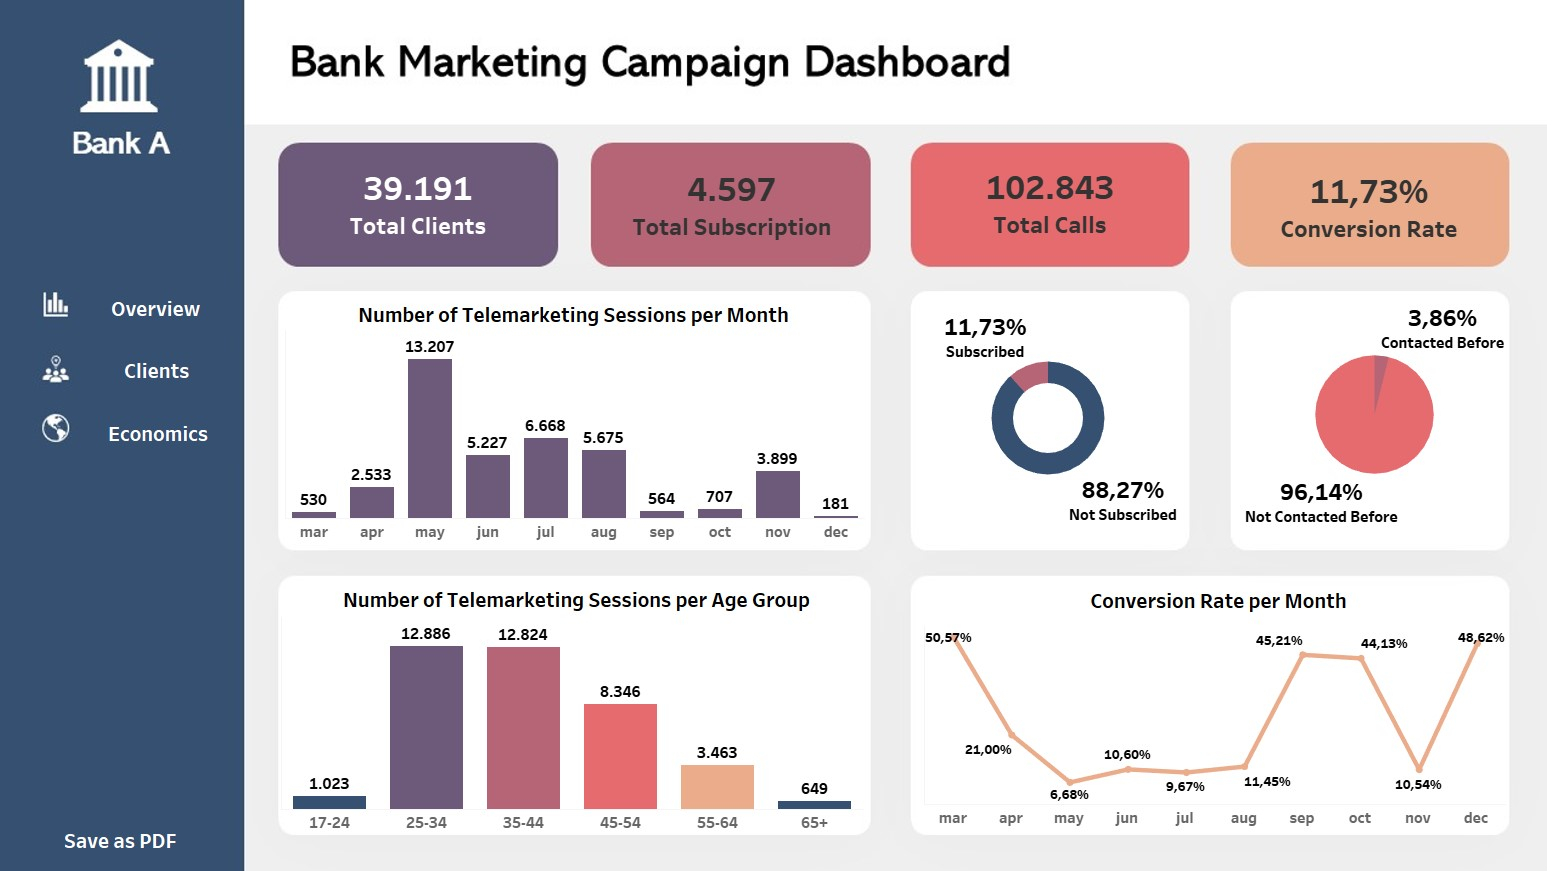

The dashboard page shown, as its layout file describes it:
{"tool":"tableau","page":{"name":"Overview","canvas":[1600,900],"ordinal":2},"visuals":[{"type":"image","param":"Image/template finpro.jpg","box":[8,8,1584,884]},{"type":"worksheet","title":"Subscription","mark":"Automatic","box":[621,163,273,109]},{"type":"worksheet","title":"Total Calls","mark":"Automatic","box":[940,166,271,99]},{"type":"worksheet","title":"Conversion Rate","mark":"Automatic","box":[1257,167,276,105]},{"type":"worksheet","title":"Total Clients","mark":"Automatic","box":[306,169,276,96]},{"type":"dashboard-object","box":[97,296,171,52]},{"type":"text","box":[305,309,589,38]},{"type":"worksheet","title":"Pie Contacted Before","mark":"Pie","box":[1270,310,261,237]},{"type":"worksheet","title":"Pie Telemarketing","mark":"Pie","box":[944,319,260,226]},{"type":"worksheet","title":"Telemarketing Per Month","mark":"Bar","rows":["bank_marketing_clean.csv_5FB693D398A34FBC9FAFC06A0E16D365"],"cols":["month"],"box":[311,344,580,213]},{"type":"dashboard-object","box":[100,358,167,52]},{"type":"worksheet","title":"Blank Total","mark":"Pie","box":[982,362,184,140]},{"type":"dashboard-object","box":[99,417,164,52]},{"type":"dashboard-object","box":[100,421,168,52]},{"type":"text","box":[308,594,589,38]},{"type":"text","box":[950,595,589,38]},{"type":"worksheet","title":"Telemarketing Per Age","mark":"Bar","rows":["bank_marketing_clean.csv_5FB693D398A34FBC9FAFC06A0E16D365"],"cols":["age_bin"],"box":[307,631,582,217]},{"type":"worksheet","title":"Conv Rate Per Month","mark":"Line","rows":["Calculation_448671144308154369"],"cols":["month"],"box":[950,640,582,203]},{"type":"dashboard-object","box":[23,821,247,66]}]}

Visuals, with their boxes in screenshot pixels (x1, y1, x2, y2), scaled from the page's 1600x900 canvas onto the 1547x871 screenshot:
image: select_region(8, 8, 1539, 863)
"Subscription" worksheet: select_region(600, 158, 864, 263)
"Total Calls" worksheet: select_region(909, 161, 1171, 256)
"Conversion Rate" worksheet: select_region(1215, 162, 1482, 263)
"Total Clients" worksheet: select_region(296, 164, 563, 256)
dashboard-object: select_region(94, 286, 259, 337)
text: select_region(295, 299, 864, 336)
"Pie Contacted Before" worksheet (Pie marks): select_region(1228, 300, 1480, 529)
"Pie Telemarketing" worksheet (Pie marks): select_region(913, 309, 1164, 527)
"Telemarketing Per Month" worksheet (Bar marks): select_region(301, 333, 861, 539)
dashboard-object: select_region(97, 346, 258, 397)
"Blank Total" worksheet (Pie marks): select_region(949, 350, 1127, 486)
dashboard-object: select_region(96, 404, 254, 454)
dashboard-object: select_region(97, 407, 259, 458)
text: select_region(298, 575, 867, 612)
text: select_region(919, 576, 1488, 613)
"Telemarketing Per Age" worksheet (Bar marks): select_region(297, 611, 860, 821)
"Conv Rate Per Month" worksheet (Line marks): select_region(919, 619, 1481, 816)
dashboard-object: select_region(22, 795, 261, 858)
